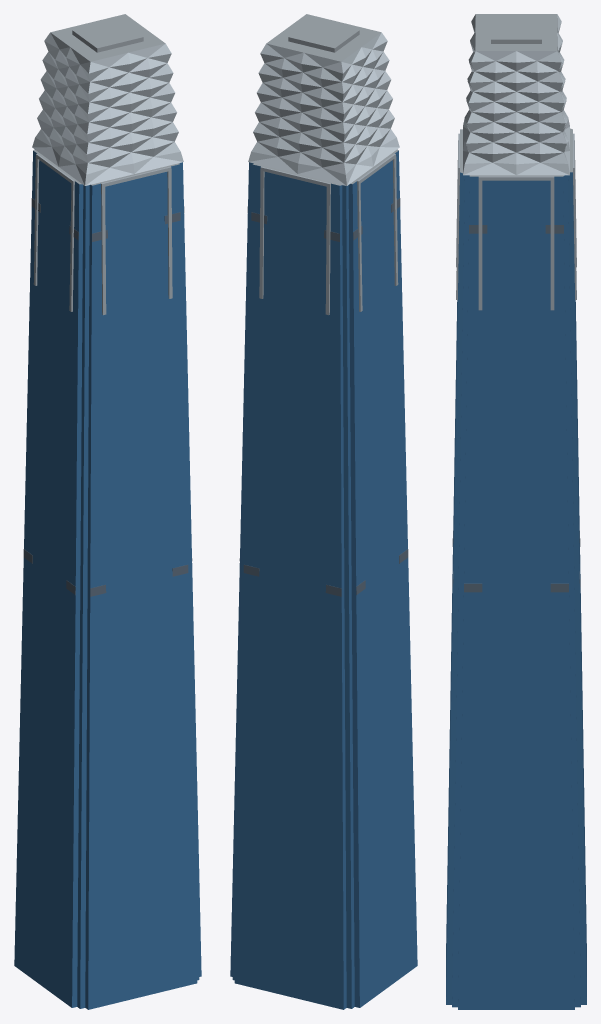
File: kl-exchange-106.glb
3 renders of one model, left to right at view 1: azimuth 30°, elevation 25°; view 2: azimuth 150°, elevation 25°; view 3: azimuth 270°, elevation 25°, orthographic.
Parts seen in each view (by area): view 1: The Exchange 106; view 2: The Exchange 106; view 3: The Exchange 106.
Part boxes in pixels (x1=…): The Exchange 106: x1=14, y1=14, x2=201, y2=1009; The Exchange 106: x1=230, y1=14, x2=417, y2=1009; The Exchange 106: x1=446, y1=14, x2=586, y2=1009.
Bounding box in the file's own units: 65.6 × 454 × 61.
